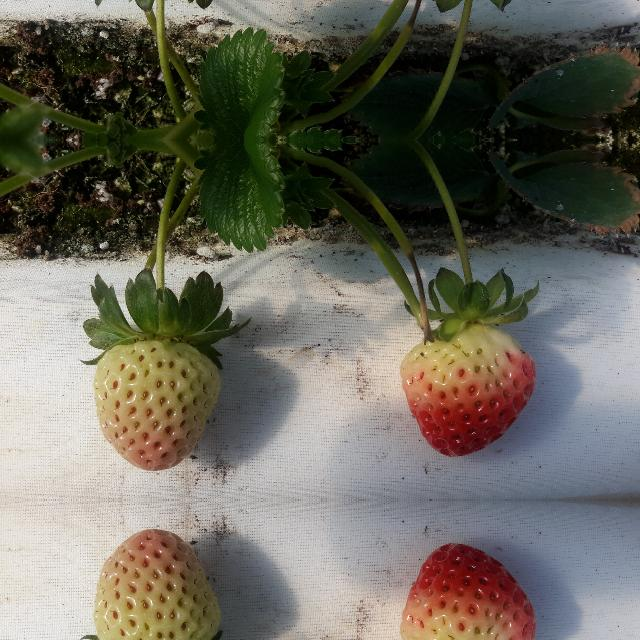Health_50: (400, 322, 536, 456), (92, 338, 222, 476), (92, 524, 221, 640), (400, 544, 535, 640)
